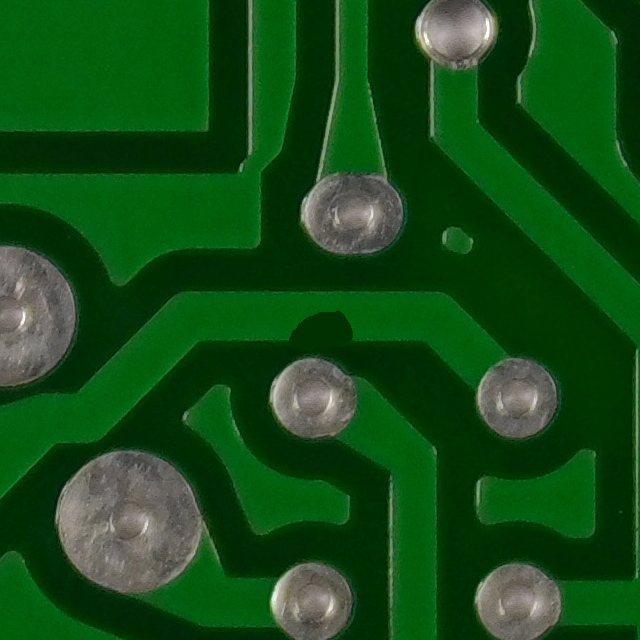mouse_bite: (278, 280, 362, 360)
